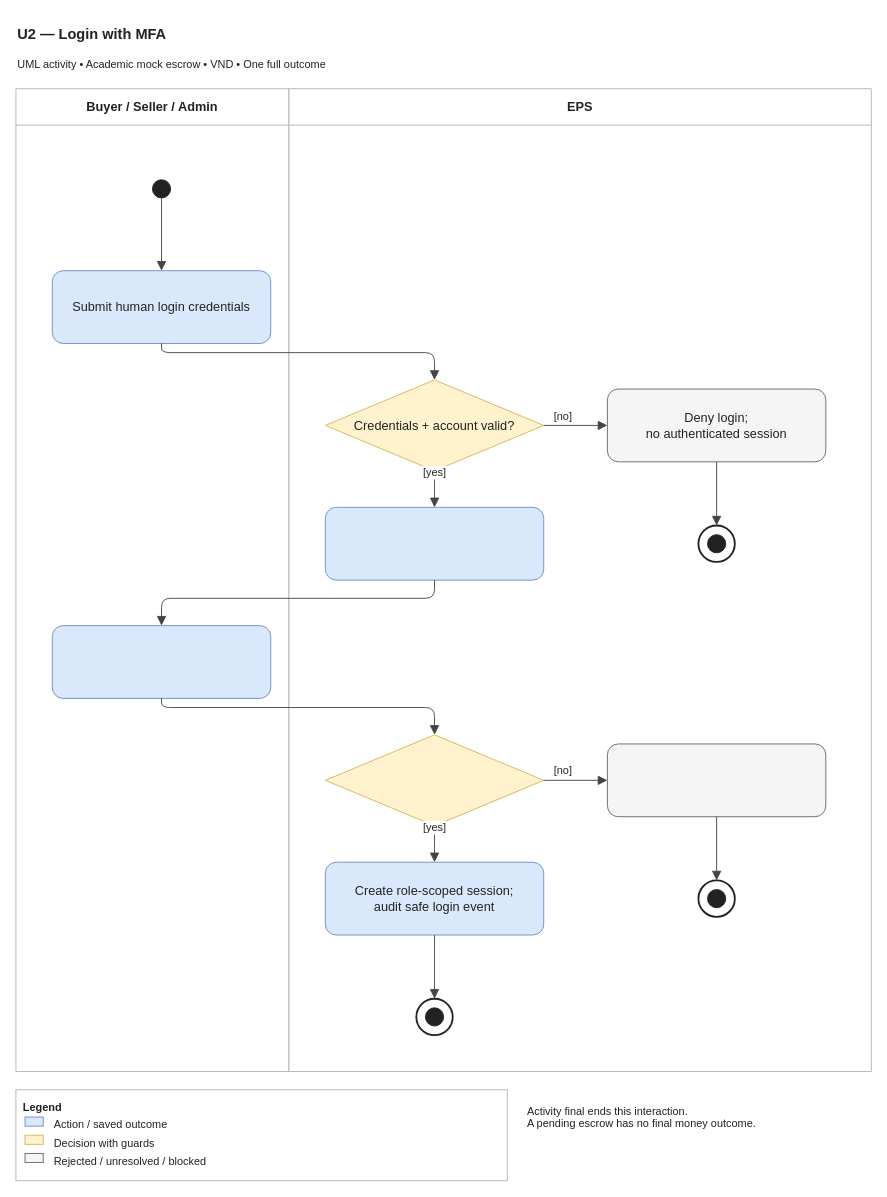
Image size: 887x1197. Some labels were removed from this diagram. Each missing label, with the centre of its shape:
"Issue MFA challenge; keep access blocked" belongs at point 434,543.
"MFA valid + account active?" belongs at point 434,780.
"Reject invalid MFA; require a valid login" belongs at point 716,780.
"Submit enrolled MFA proof" belongs at point 161,661.
